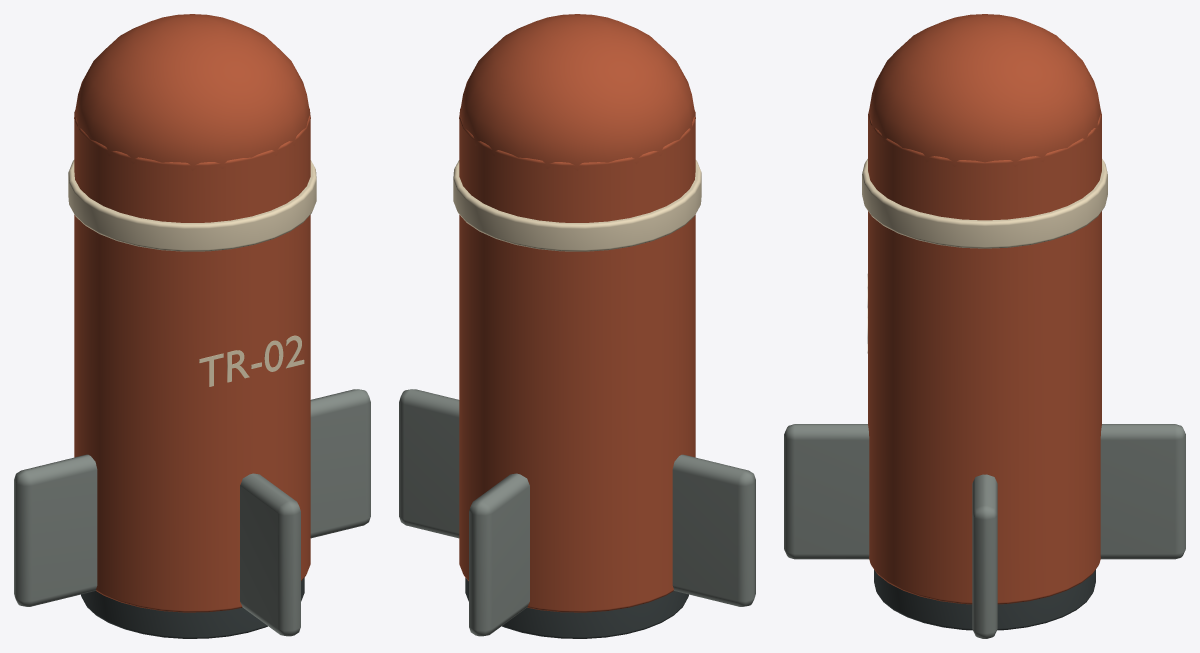
The model's file is drop_device.glb.
3 views of the same model, side by side, from view 1: azimuth 30°, elevation 25°; view 2: azimuth 150°, elevation 25°; view 3: azimuth 270°, elevation 25° (orthographic).
Visible parts, largest first — view 1: Painted stylized shell, Painted nose, Visual fin.002, Visual fin.003, Visual fin, Lighting collar, Rear guard, TR-02; view 2: Painted stylized shell, Painted nose, Visual fin.002, Visual fin.001, Visual fin, Lighting collar, Rear guard; view 3: Painted stylized shell, Painted nose, Visual fin.001, Visual fin.003, Lighting collar, Rear guard, Visual fin.
Boxes of the visible parts, left/top/right/bottom form: Painted stylized shell: left=74, top=108, right=310, bottom=612; Painted nose: left=74, top=14, right=310, bottom=170; Visual fin.002: left=14, top=454, right=97, bottom=606; Visual fin.003: left=240, top=473, right=300, bottom=636; Visual fin: left=310, top=389, right=370, bottom=538; Lighting collar: left=68, top=160, right=316, bottom=251; Rear guard: left=81, top=578, right=304, bottom=638; TR-02: left=199, top=335, right=304, bottom=386; Painted stylized shell: left=459, top=108, right=695, bottom=612; Painted nose: left=459, top=14, right=695, bottom=170; Visual fin.002: left=672, top=454, right=755, bottom=606; Visual fin.001: left=469, top=473, right=529, bottom=636; Visual fin: left=399, top=389, right=459, bottom=538; Lighting collar: left=453, top=160, right=701, bottom=251; Rear guard: left=465, top=578, right=688, bottom=638; Painted stylized shell: left=868, top=111, right=1101, bottom=604; Painted nose: left=868, top=14, right=1101, bottom=166; Visual fin.001: left=1100, top=424, right=1185, bottom=559; Visual fin.003: left=784, top=424, right=869, bottom=559; Lighting collar: left=862, top=159, right=1107, bottom=248; Rear guard: left=874, top=569, right=1095, bottom=630; Visual fin: left=972, top=474, right=997, bottom=638.
Bounding box in the file's own units: 1.34 × 2.06 × 1.34.
